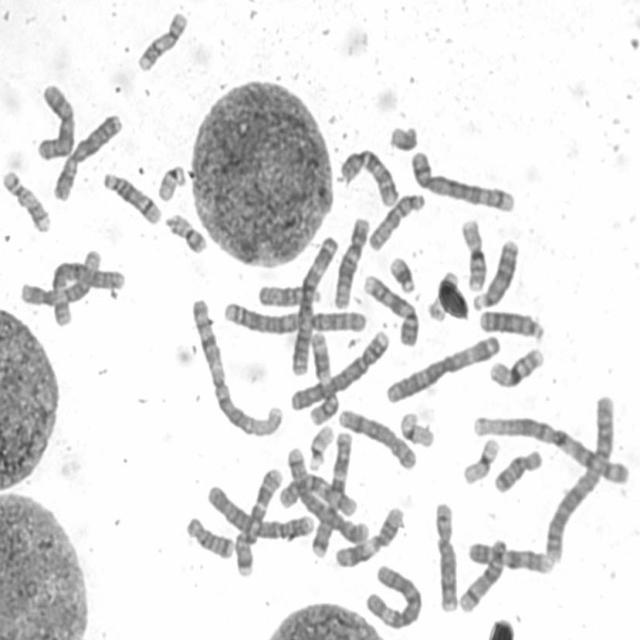A1: (188, 295, 284, 439), (469, 412, 631, 485)
A2: (542, 391, 618, 565), (218, 298, 366, 336)
A3: (383, 332, 503, 404), (287, 233, 339, 376)
B4: (288, 327, 392, 413), (204, 480, 312, 542)
B5: (283, 444, 370, 546), (408, 147, 516, 215)
C10: (336, 146, 400, 208), (276, 471, 359, 516)
C11: (332, 504, 406, 569), (306, 329, 341, 425)
C12: (20, 246, 104, 308), (331, 215, 371, 309)
C6: (52, 259, 126, 327), (361, 560, 424, 630)
C7: (308, 427, 354, 558), (232, 464, 283, 576)
C8: (335, 404, 418, 470), (432, 498, 458, 615)
C9: (362, 270, 420, 348), (464, 538, 554, 575)
D13: (470, 236, 520, 312), (477, 306, 545, 342)
D14: (456, 536, 507, 614), (100, 169, 164, 226)
D15: (364, 189, 428, 253), (255, 280, 323, 308)
E16: (486, 344, 545, 391), (458, 215, 488, 293)
E17: (134, 9, 188, 73), (1, 167, 52, 233)
E18: (491, 446, 544, 496), (184, 513, 236, 560)
F19: (459, 434, 502, 486), (398, 408, 436, 449)
F20: (164, 209, 210, 256), (428, 272, 462, 322)
G21: (388, 253, 418, 294), (388, 124, 419, 153)
G22: (306, 422, 336, 472), (155, 163, 187, 202)
X: (50, 110, 124, 202), (32, 81, 78, 162)
